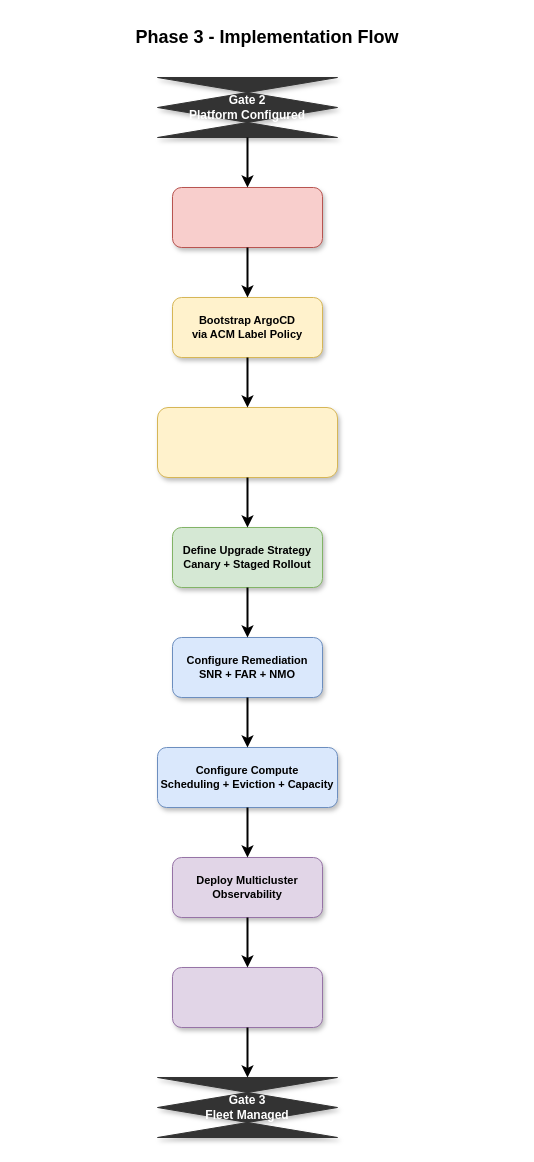
The diagram is 534 pixels wide and 1162 high, and some of its shapes have lost their labels. Each missing label, with the centre of its shape:
Configure GitOps Delivery ArgoCD App-of-Apps + ACM Operator Policies: the point at 248,443
Operationalize Fleet Compliance: the point at 248,998
Register Clusters with Split ACM Hubs: the point at 248,218
